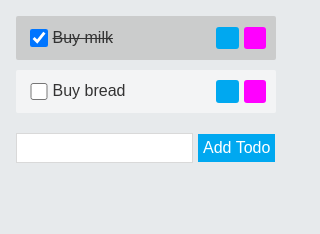
TodoApp › New items can be added
Type "New todo" into the field with test id "new-input".
click(104, 148); type("New todo")  # box [16,133,193,163]
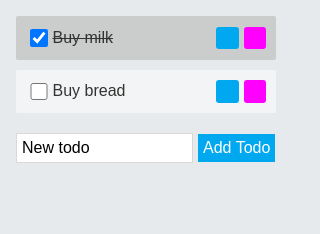
Click the button with test id "new-submit".
click(237, 148)  # box [198,134,275,162]
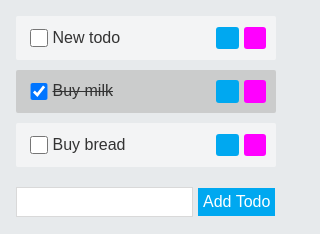
Result: the text "New todo" is shown at [52,29,120,47]
